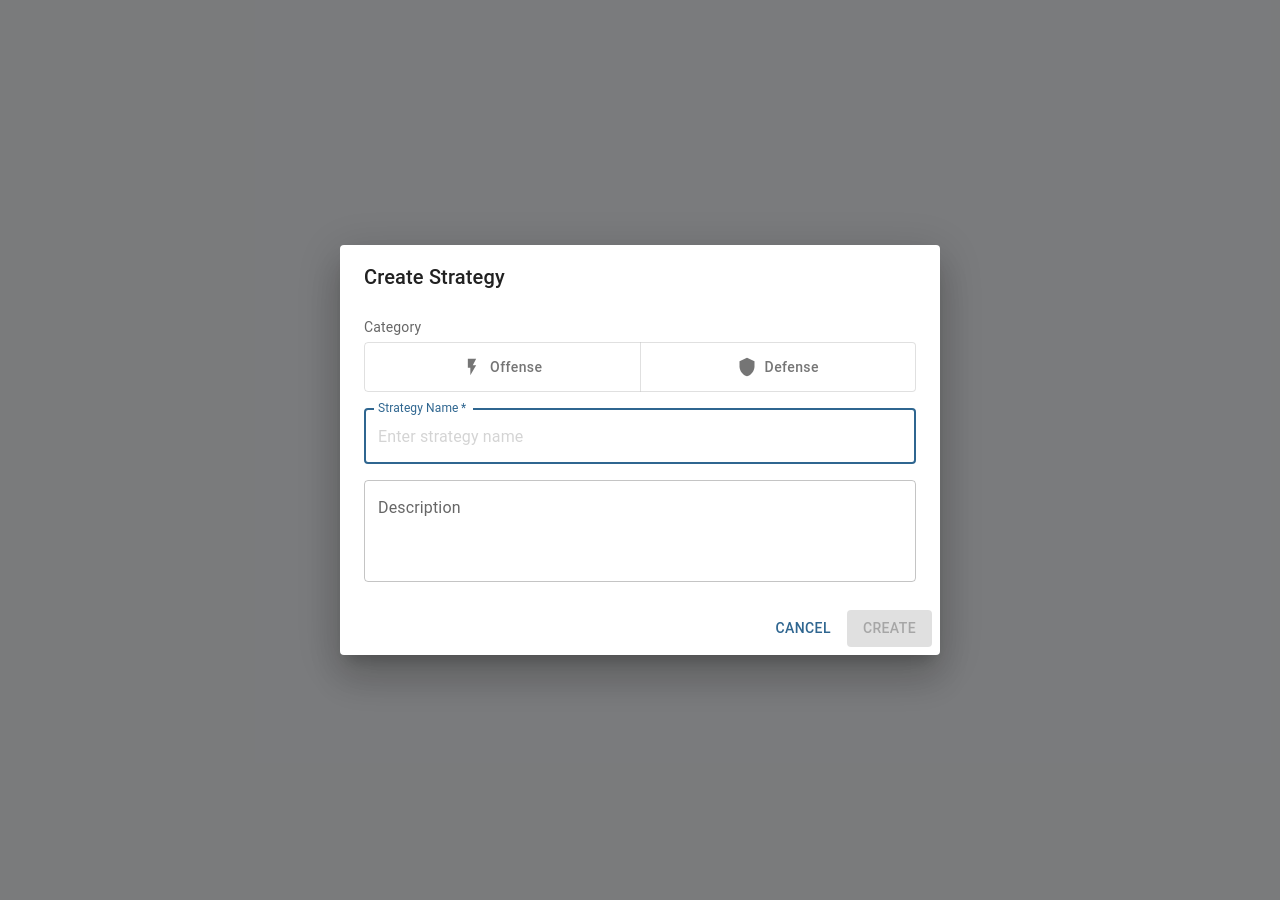
Test case: CreateStrategyModal › enables create button when name and category are filled
Fill in name
Type "Vertical Stack" into the field labelled "Strategy Name *".
click(640, 436); type("Vertical Stack")  # box [364,408,916,464]
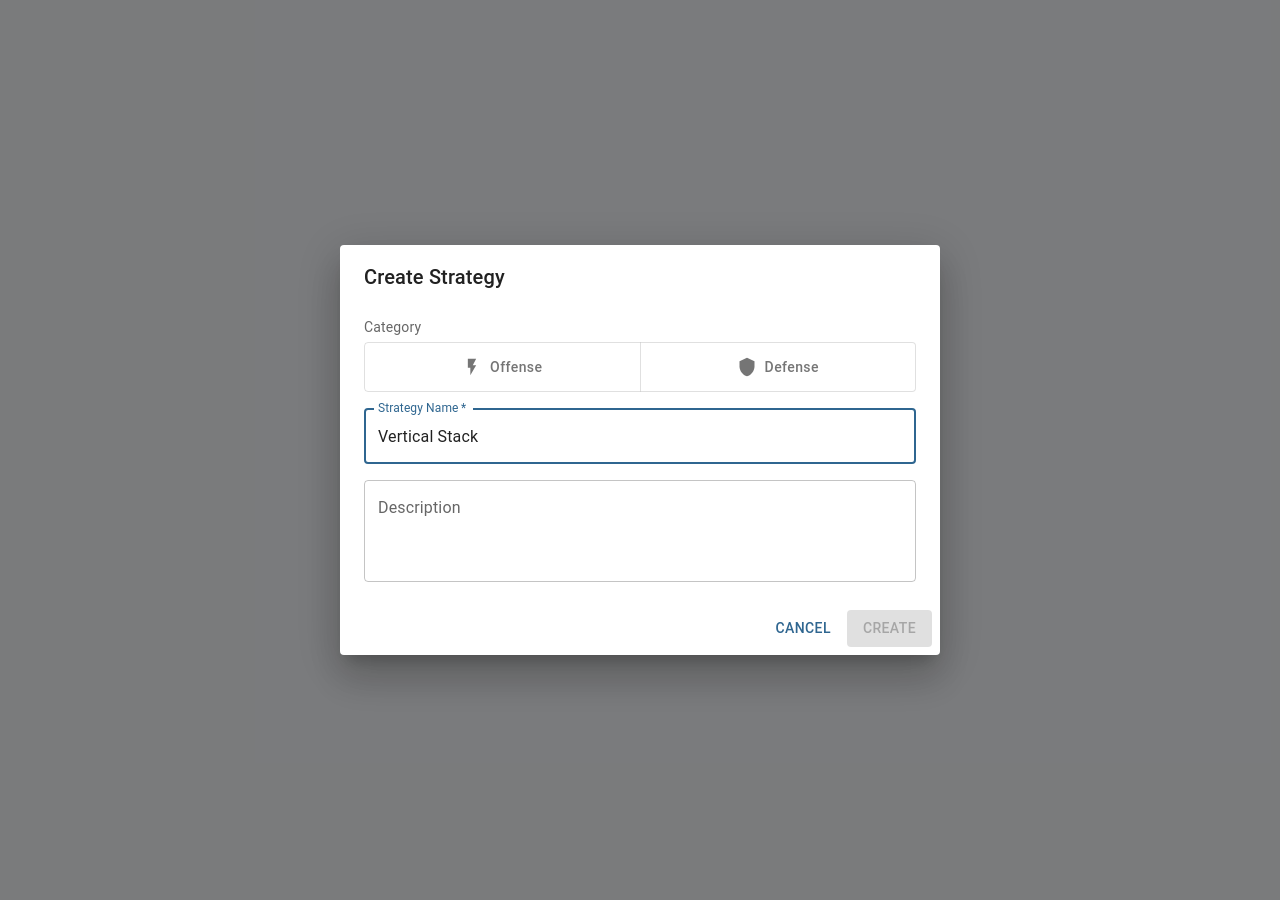
Select offense category
Click the button "Offense".
click(502, 367)  # box [364,342,640,392]
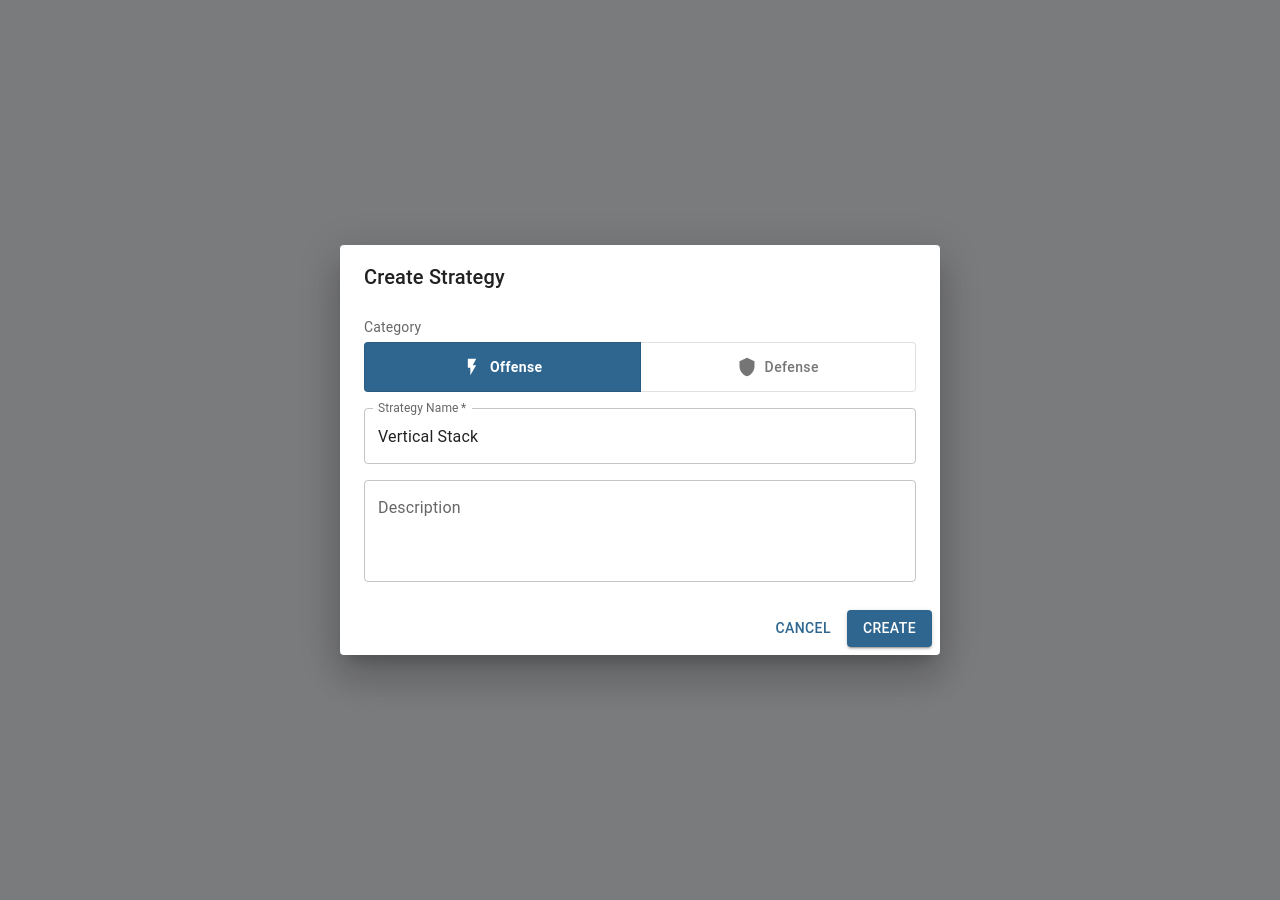
Now the button "Create" is enabled, box [847,610,932,647]
